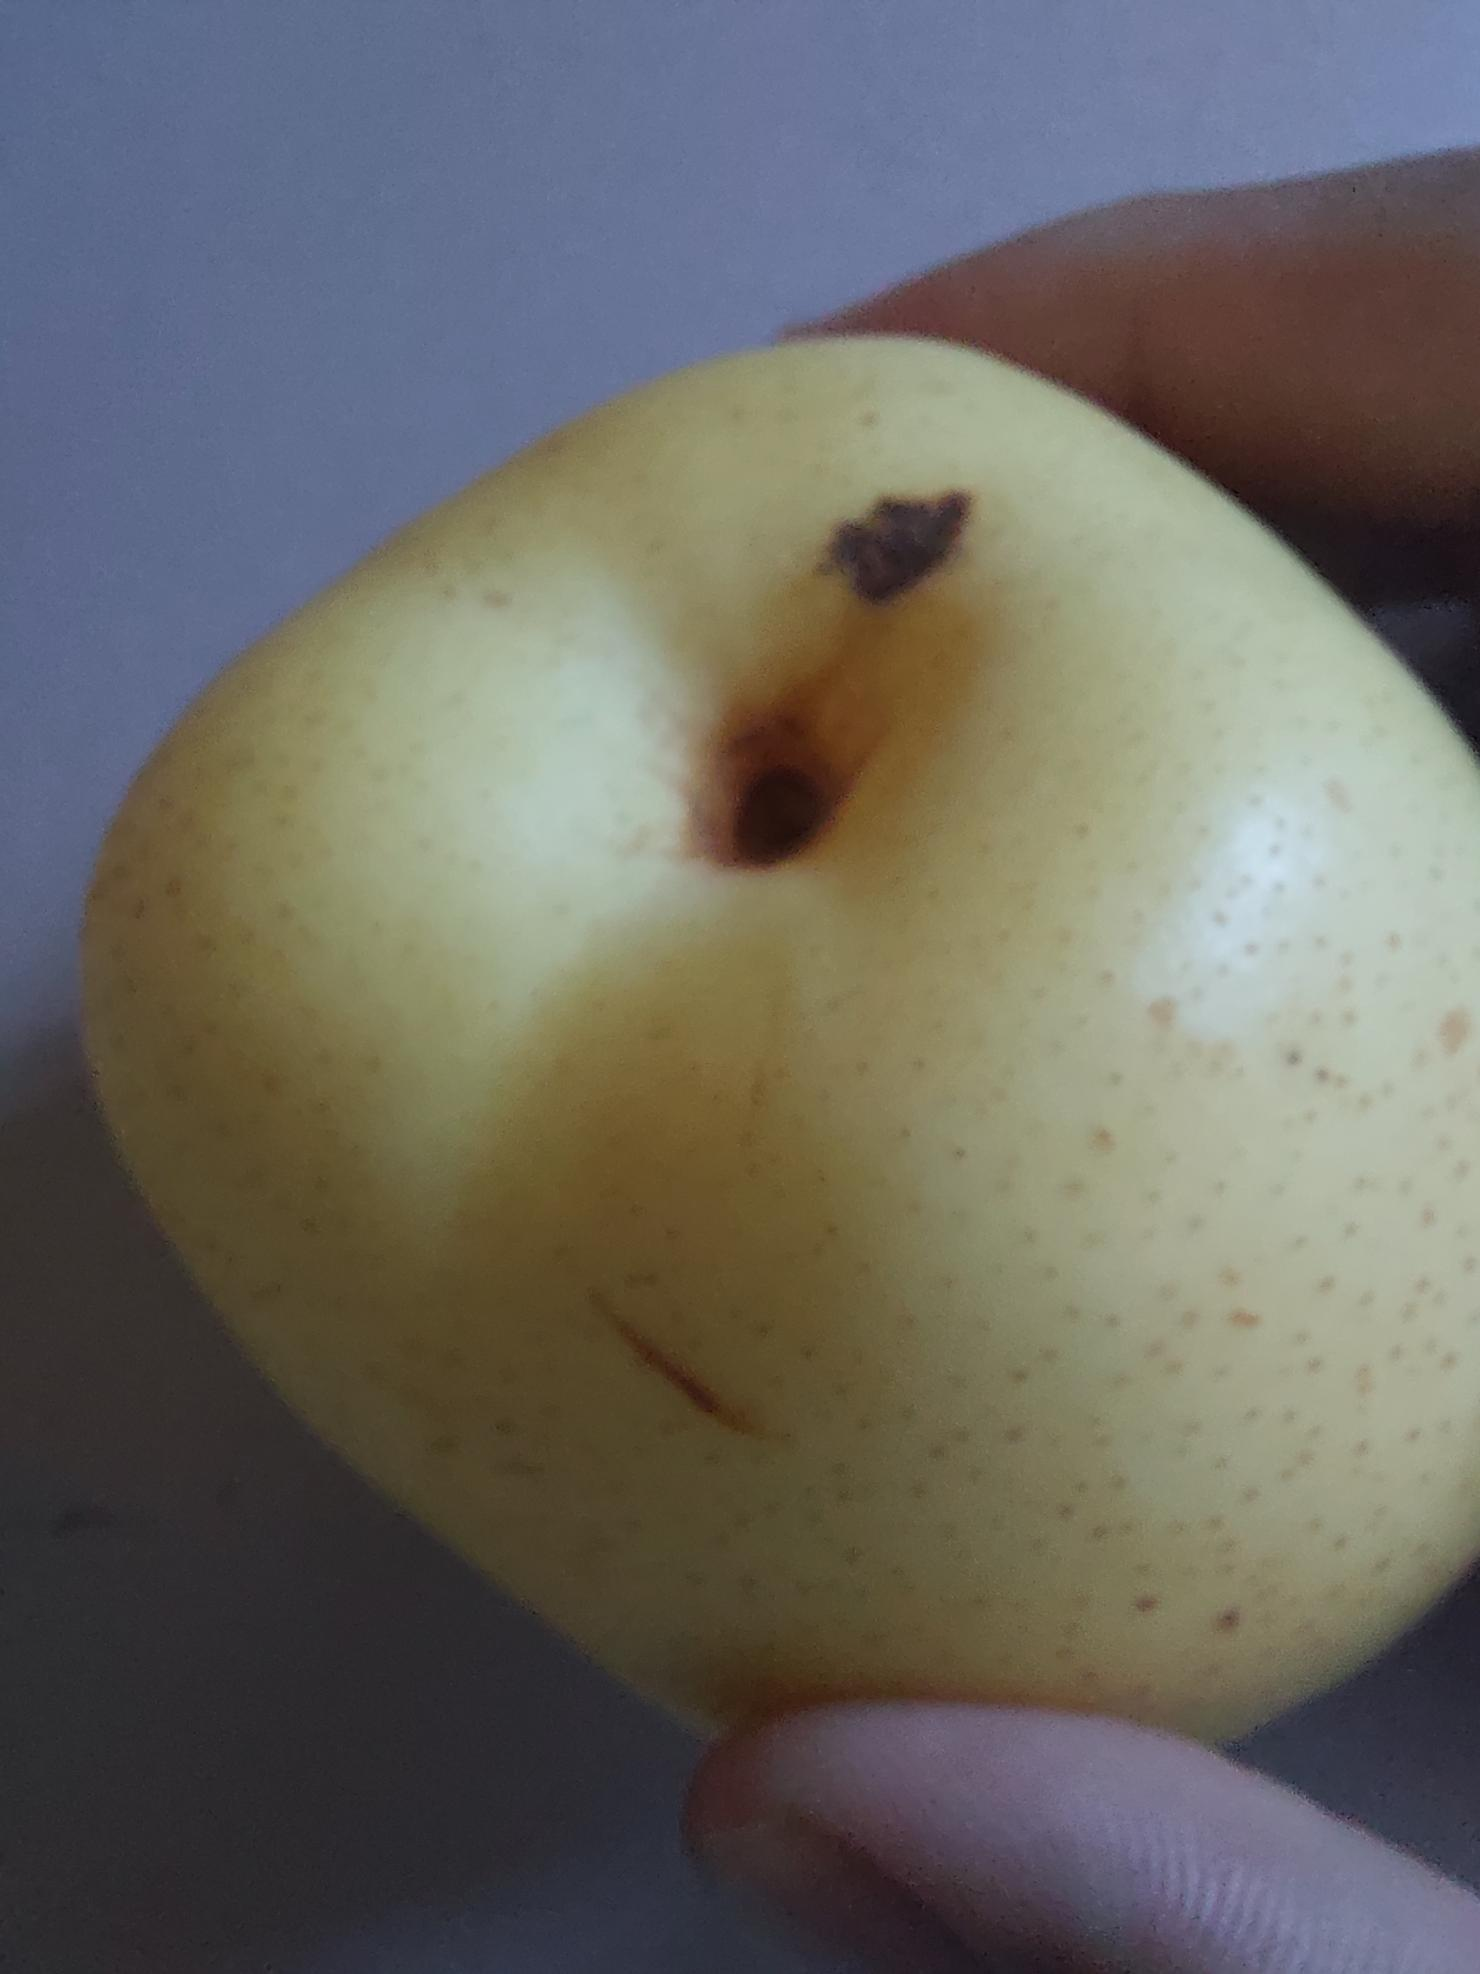Good Pear: (81, 319, 1480, 1711)
